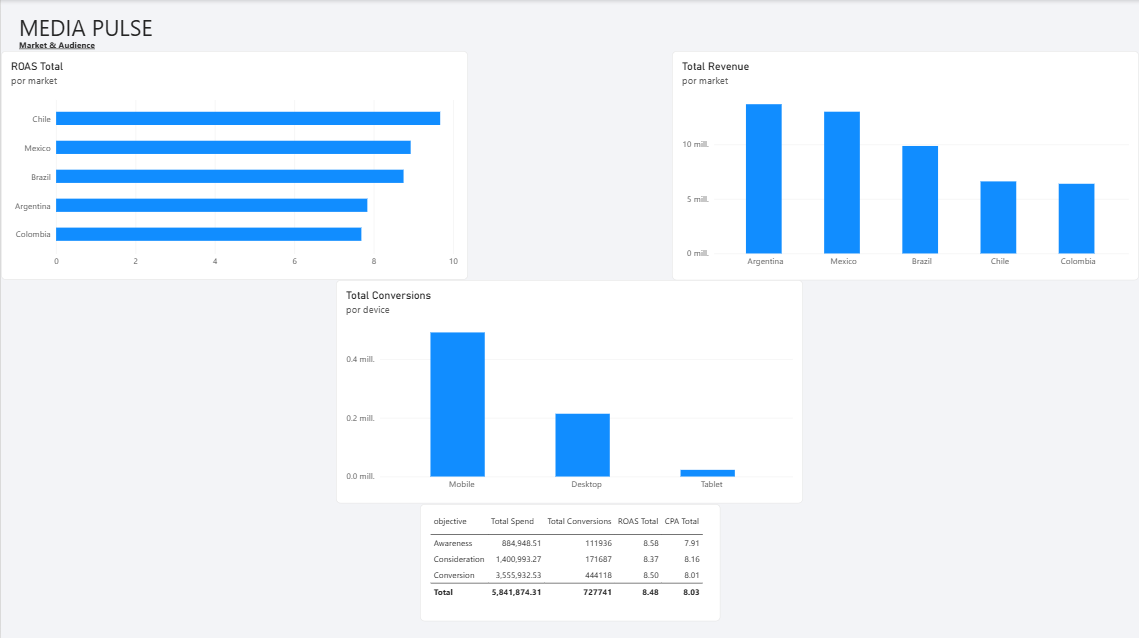

The dashboard page shown, as its layout file describes it:
{"tool":"powerbi","page":{"name":"Market & Audience","canvas":[1920,1080],"ordinal":2},"visuals":[{"type":"clusteredColumnChart","fields":{"Category":["campaign_performance.market"],"Y":["campaign_performance.Total Revenue"]},"box":[1131.7,86.7,788.3,386.7],"z":0},{"type":"tableEx","fields":{"Values":["campaign_performance.objective","campaign_performance.Total Spend","campaign_performance.Total Conversions","campaign_performance.ROAS Total","campaign_performance.CPA Total"]},"box":[706.7,850,506.7,198.3],"z":1000},{"type":"clusteredBarChart","fields":{"Category":["campaign_performance.market"],"Y":["campaign_performance.ROAS Total"]},"box":[0,86.7,788,386],"z":2000},{"type":"textbox","box":[30,20,286.2,92.5],"z":3000},{"type":"textbox","box":[30,65,148.3,41.7],"z":4000},{"type":"clusteredColumnChart","fields":{"Category":["campaign_performance.device"],"Y":["campaign_performance.Total Conversions"]},"box":[565,473.3,788.3,376.7],"z":5000}]}

Visuals, with their boxes in screenshot pixels (x1, y1, x2, y2), scaled from the page's 1920x1080 canvas onto the 1139x638 screenshot:
clusteredColumnChart - campaign_performance.market x campaign_performance.Total Revenue: rect(671, 51, 1138, 280)
tableEx - campaign_performance.objective x campaign_performance.Total Spend: rect(419, 502, 720, 619)
clusteredBarChart - campaign_performance.market x campaign_performance.ROAS Total: rect(0, 51, 467, 279)
textbox: rect(18, 12, 188, 66)
textbox: rect(18, 38, 106, 63)
clusteredColumnChart - campaign_performance.device x campaign_performance.Total Conversions: rect(335, 280, 803, 502)
